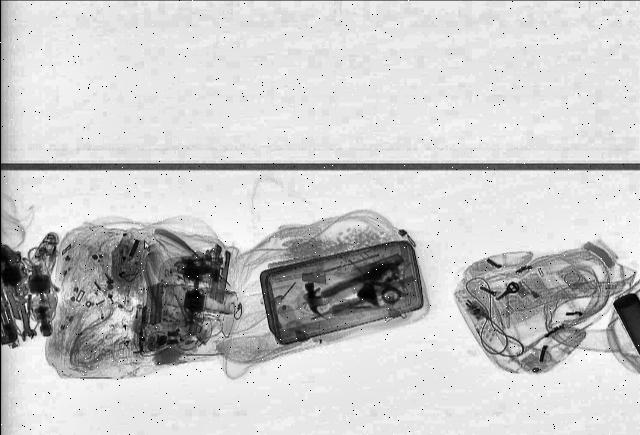Wrench: (11, 290, 35, 340)
